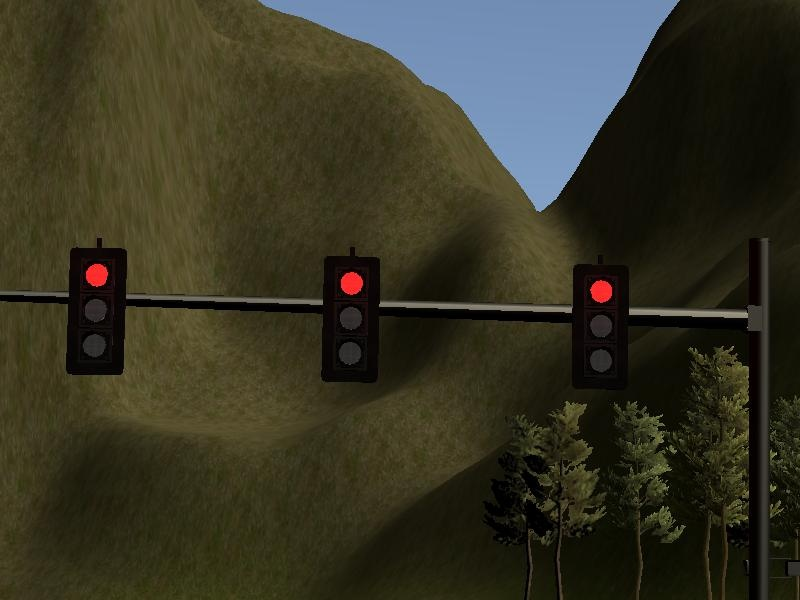red: (573, 262, 629, 388), (68, 249, 122, 375), (324, 256, 378, 382)
